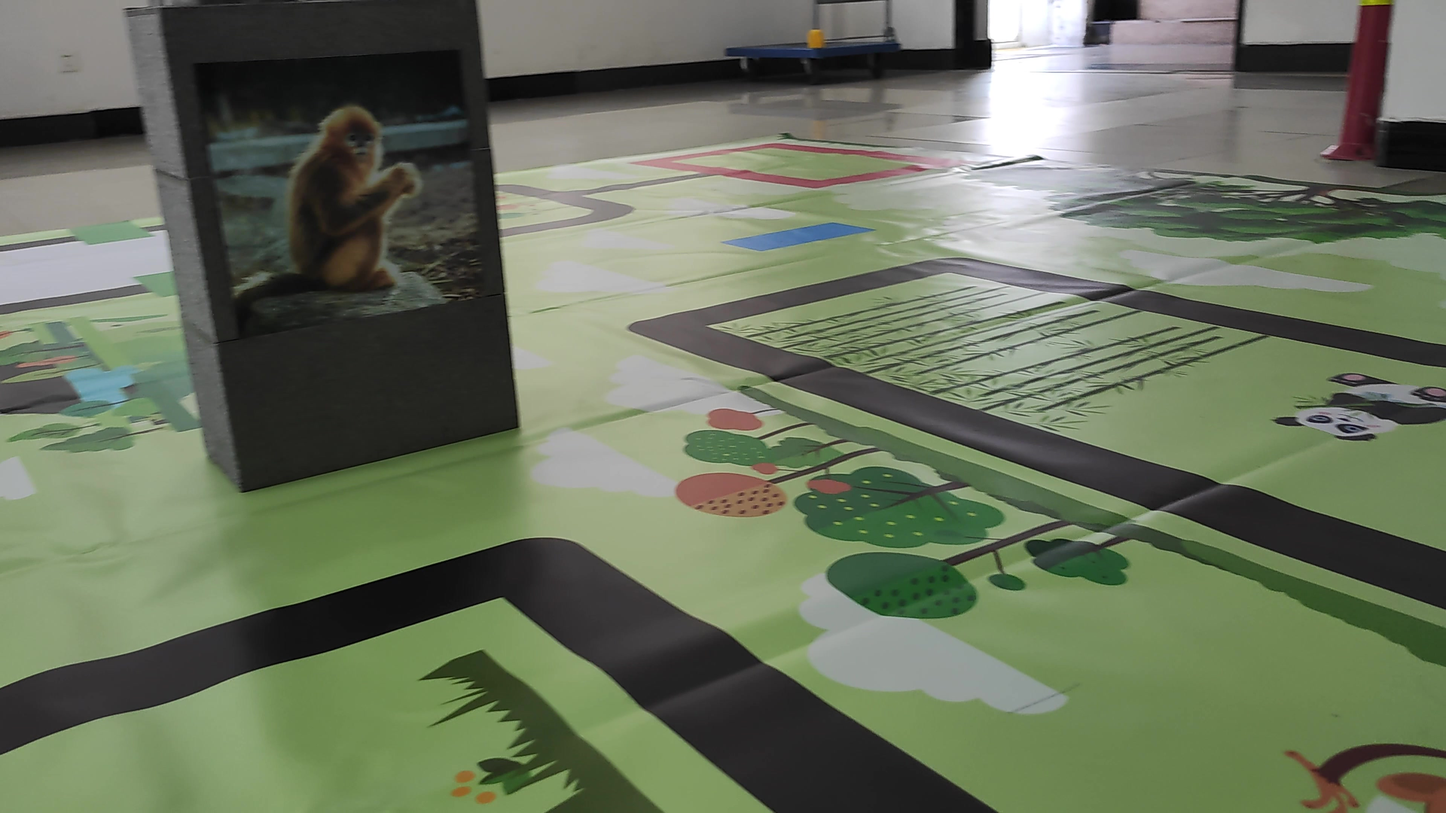monkey: (230, 100, 444, 344)
